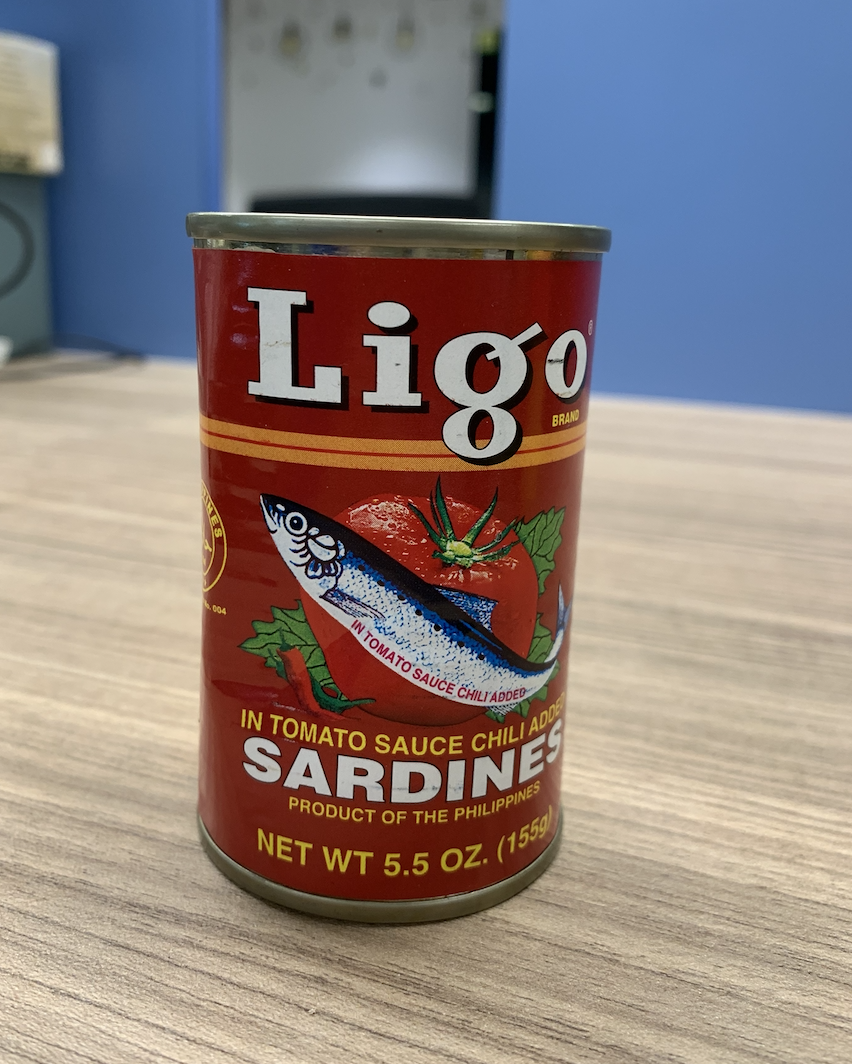sardines_150g: (215, 270, 577, 865)
